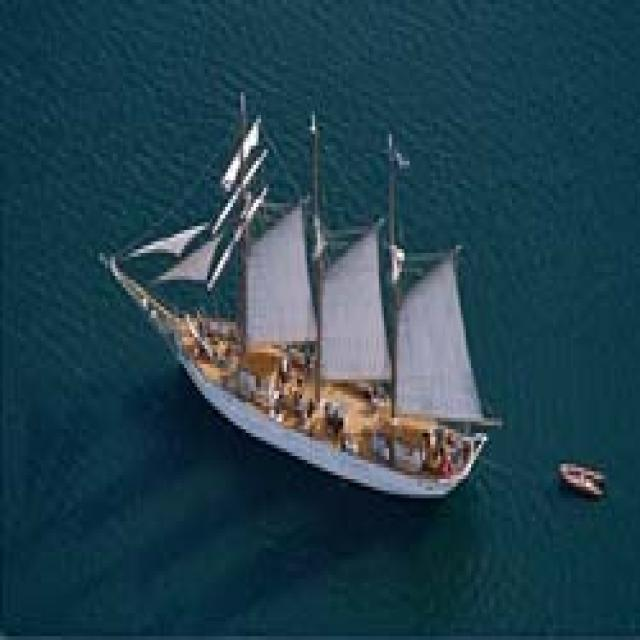Ship: (120, 96, 501, 504)
